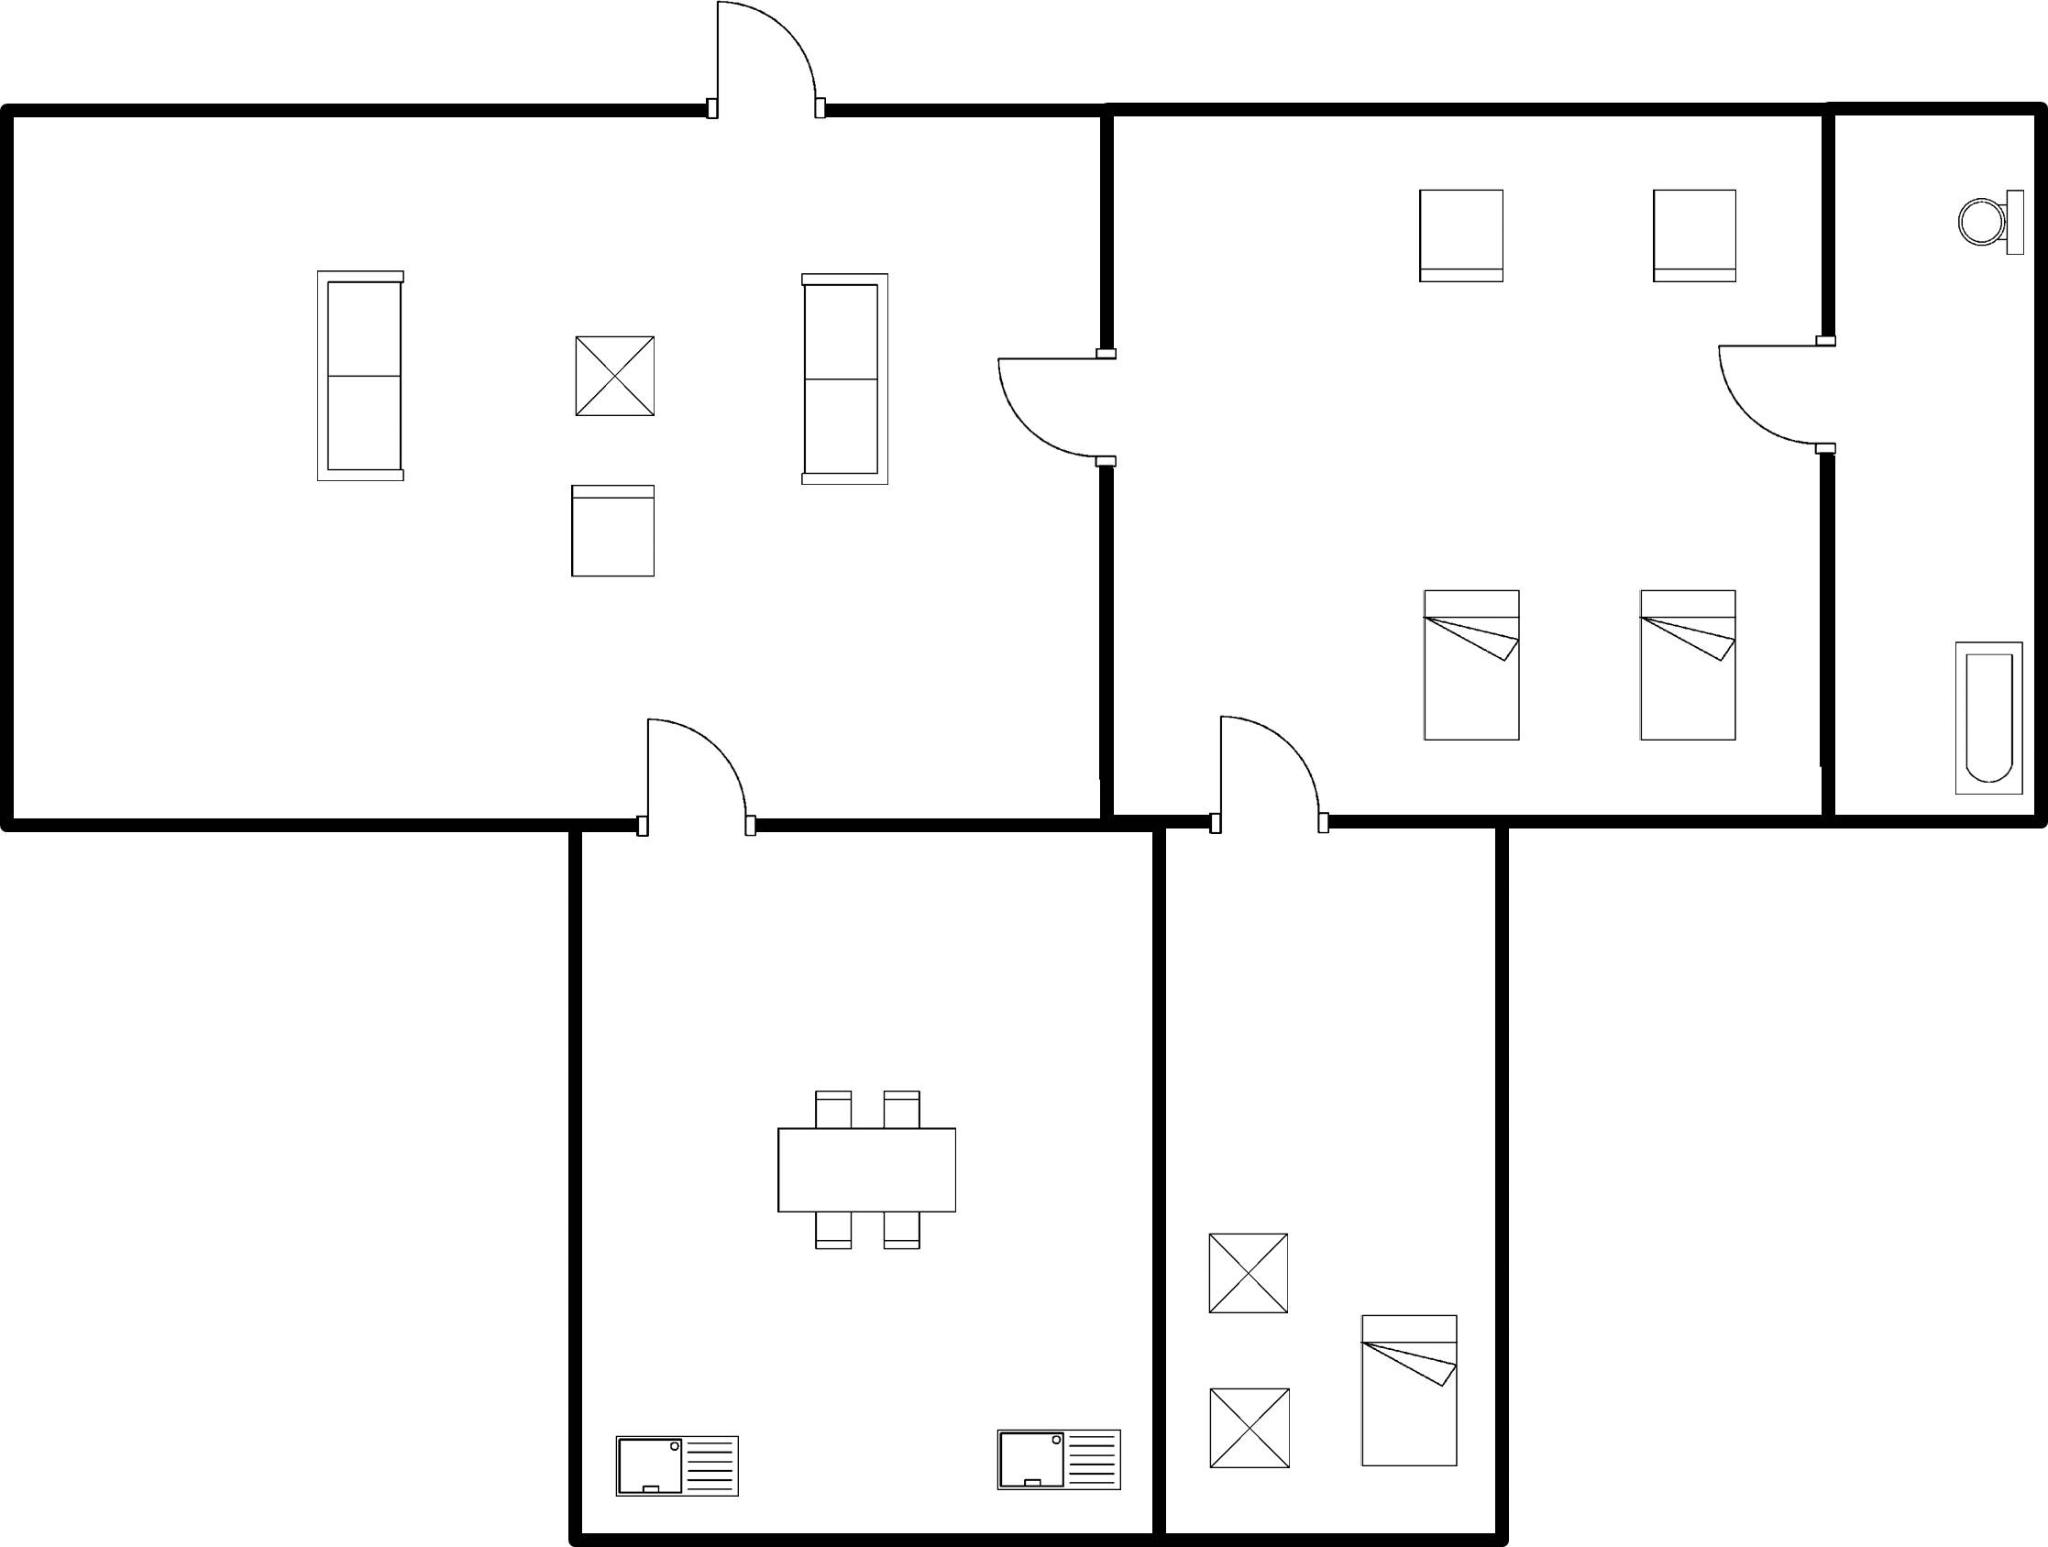bed: (1627, 578, 1749, 754), (1349, 1305, 1469, 1480), (1412, 577, 1528, 746)
dining_table: (764, 1079, 965, 1263)
sink: (983, 1419, 1128, 1501), (603, 1427, 748, 1503)
sofa: (302, 255, 414, 492), (790, 258, 896, 497)
toilet: (1942, 182, 2027, 270)
tub: (1941, 627, 2028, 803)
